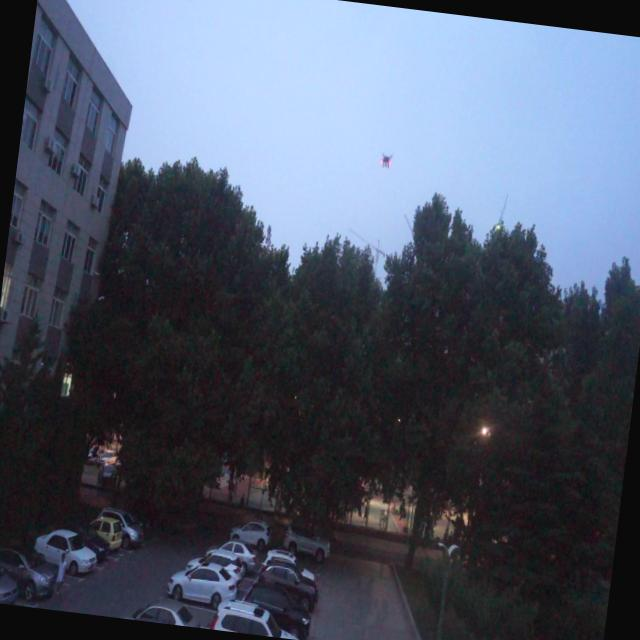drone: (378, 150, 394, 171)
